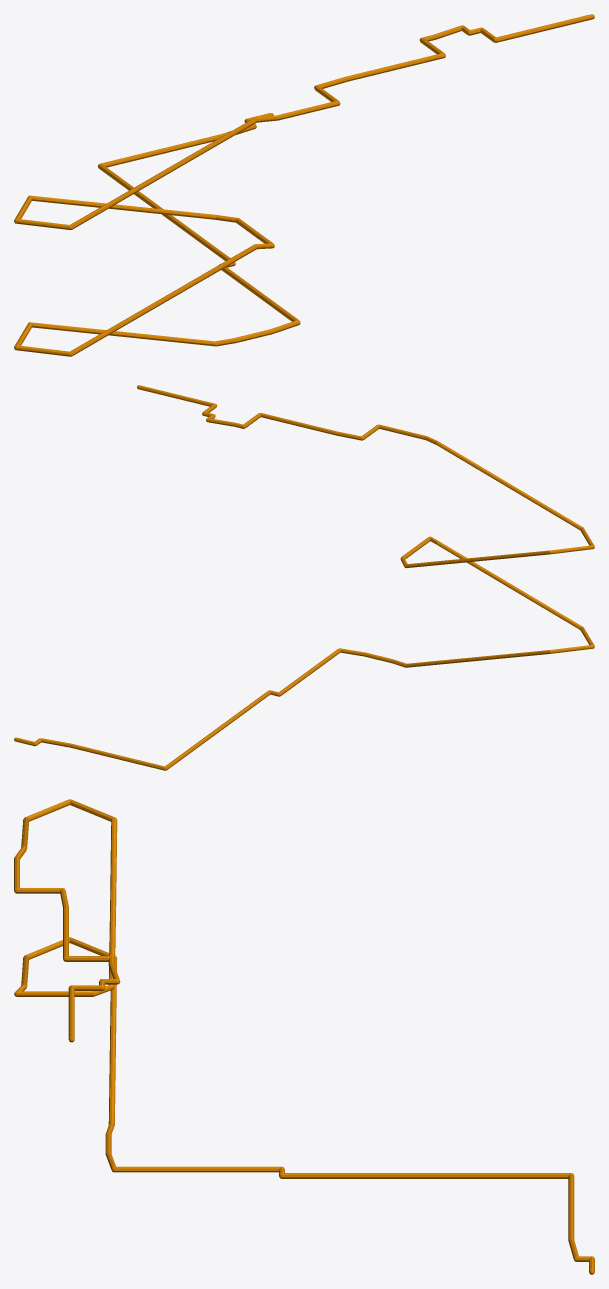
The picture shows the model from 3 angles, top to bottom: view 1: azimuth 30°, elevation 25°; view 2: azimuth 150°, elevation 25°; view 3: azimuth 270°, elevation 25°; orthographic projection. The views are drawn at different scales.
Size of the model in its own units: 2402 by 1020 by 1907.
